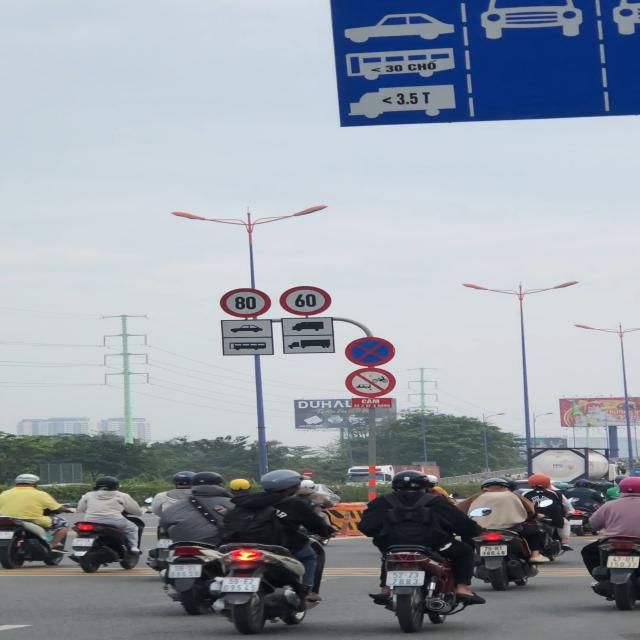Bien bao cam dung xe va do xe: (343, 335, 399, 367)
Bien bao toc do toi da cho phep: (279, 284, 332, 318), (219, 288, 274, 318)
